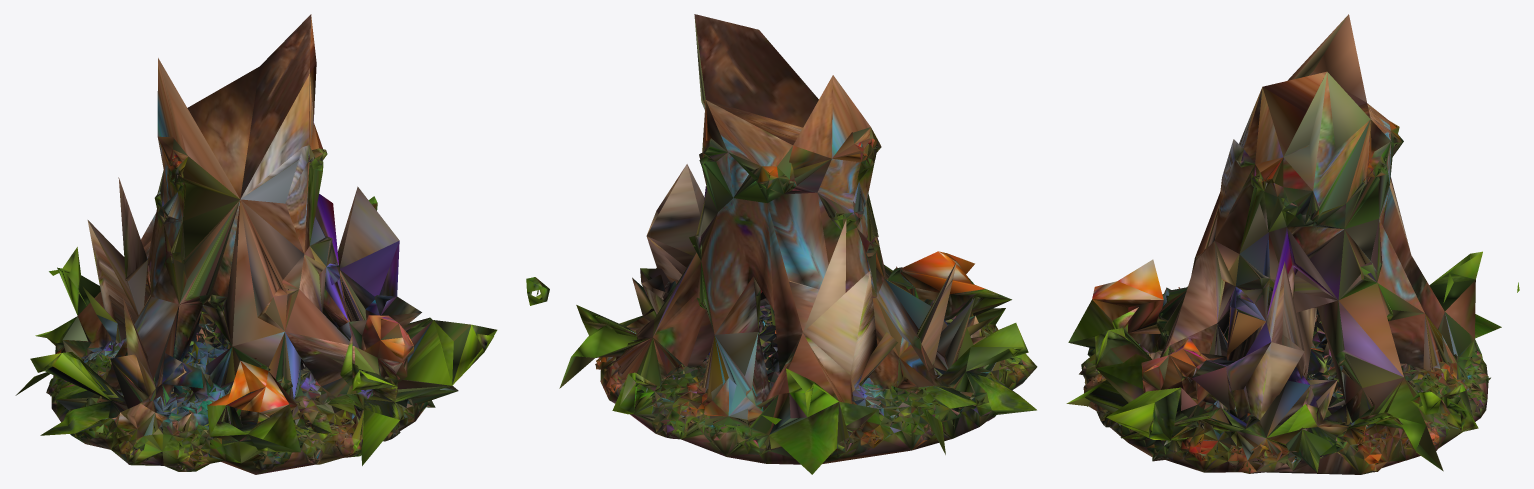
Rendered from a_stylized_stump_base.glb.
3 renders of one model, left to right at view 1: azimuth 30°, elevation 25°; view 2: azimuth 150°, elevation 25°; view 3: azimuth 270°, elevation 25°, orthographic. The views are drawn at different scales.
Visible parts, largest first — view 1: a_stylized_stump_base; view 2: a_stylized_stump_base; view 3: a_stylized_stump_base.
Part boxes in pixels (x1,y1,x2,y2): a_stylized_stump_base: (15,14,497,474); a_stylized_stump_base: (526,14,1037,474); a_stylized_stump_base: (1066,14,1519,474).
Bounding box in the file's own units: 1.88 × 1.51 × 1.67.
1 material, 1 textured.
